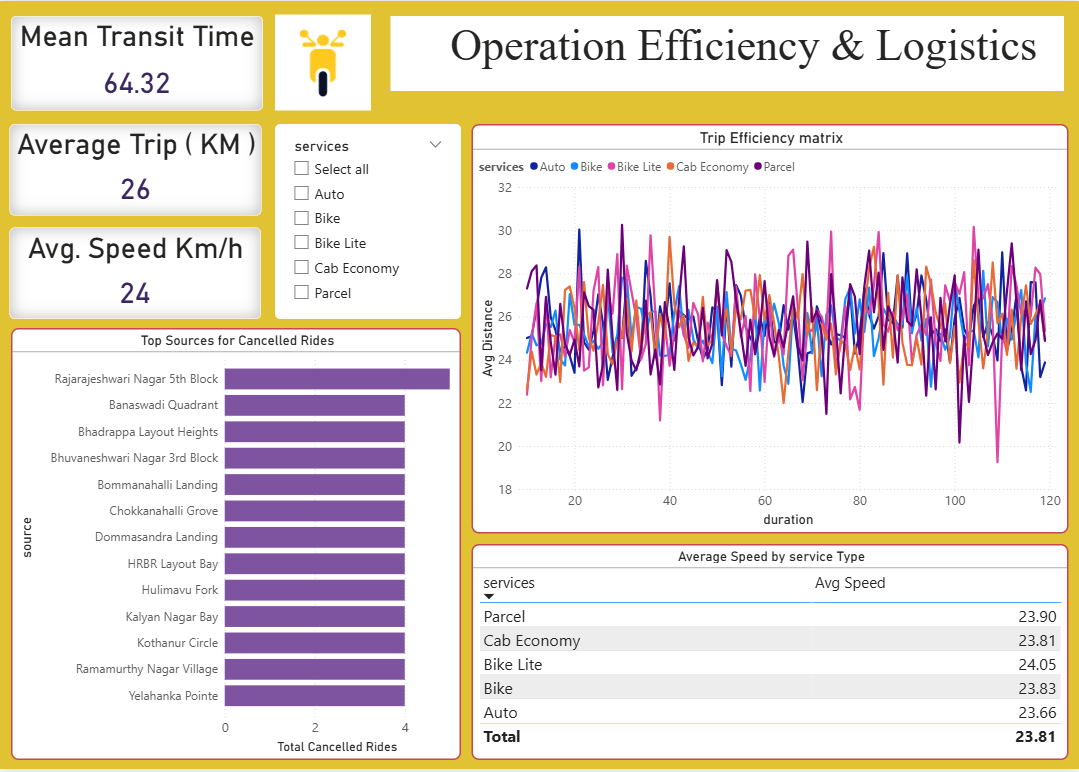

This screenshot's page, from the dashboard's own definition file:
{"tool":"powerbi","page":{"name":"Page 2","canvas":[1440,1024],"ordinal":1},"visuals":[{"type":"card","title":"Mean Transit Time","fields":{"Values":["rides_data.Avg Duration"]},"box":[16,20,336,126],"z":0},{"type":"card","title":"Average Trip ( KM )","fields":{"Values":["rides_data.Avg Distance"]},"box":[14,164,336,122],"z":1000},{"type":"scatterChart","title":"Trip Efficiency matrix","fields":{"X":["rides_data.duration"],"Y":["rides_data.distance"],"Series":["rides_data.services"]},"box":[630,164,796,546],"z":2000},{"type":"slicer","fields":{"Values":["rides_data.services"]},"box":[368,164,248,260],"z":3000},{"type":"barChart","title":"Top Sources for Cancelled Rides","fields":{"Category":["rides_data.source"],"Y":["rides_data.Total Cancelled Rides"]},"box":[16,436,600,576],"z":4000},{"type":"card","title":"Avg.  Speed Km/h","fields":{"Values":["rides_data.Avg Speed"]},"box":[14,302,335,122],"z":5000},{"type":"tableEx","title":"Average Speed by service Type","fields":{"Values":["rides_data.services","rides_data.Avg Speed"]},"box":[630,724,796,288],"z":6000},{"type":"image","box":[342,18,180,128],"z":7000},{"type":"textbox","box":[522,20,898,100],"z":8000}]}

Visuals, with their boxes in screenshot pixels (x1, y1, x2, y2), scaled from the page's 1440x1024 canvas onto the 1079x772 screenshot:
"Mean Transit Time" card: select_region(12, 15, 264, 110)
"Average Trip ( KM )" card: select_region(10, 124, 262, 216)
"Trip Efficiency matrix" scatterChart: select_region(472, 124, 1069, 535)
slicer - rides_data.services: select_region(276, 124, 462, 320)
"Top Sources for Cancelled Rides" barChart: select_region(12, 329, 462, 763)
"Avg.  Speed Km/h" card: select_region(10, 228, 262, 320)
"Average Speed by service Type" tableEx: select_region(472, 546, 1069, 763)
image: select_region(256, 14, 391, 110)
textbox: select_region(391, 15, 1064, 90)
